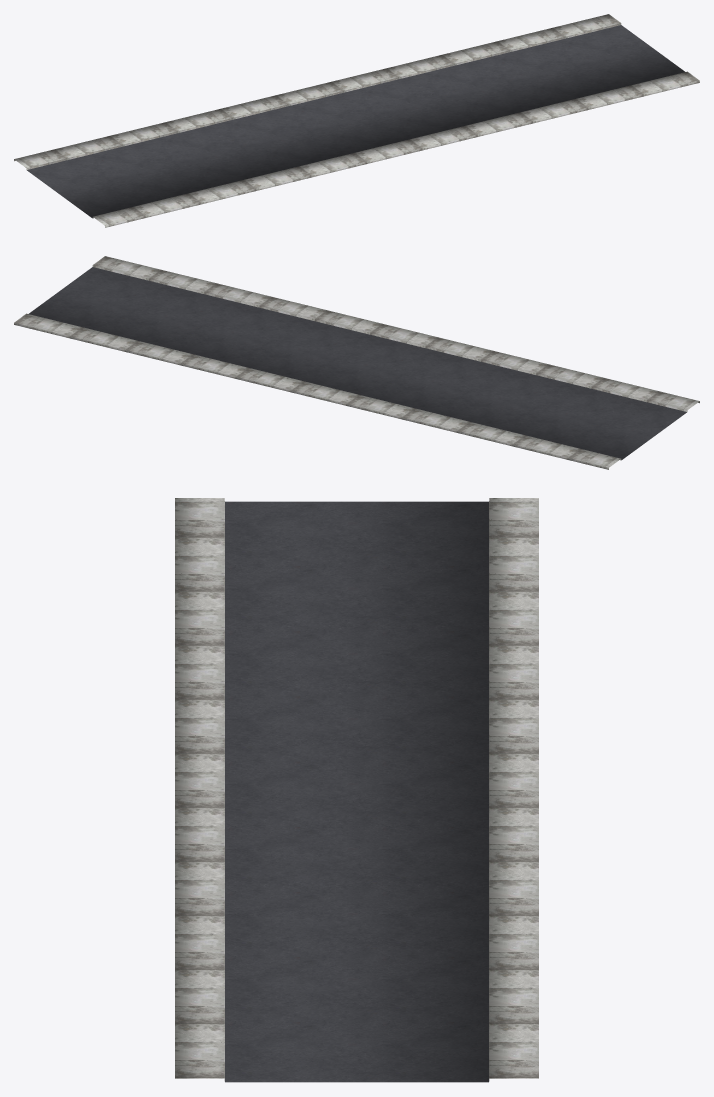
Rendered from strada_dritta_grande_bianca.glb.
The picture shows the model from 3 angles, top to bottom: view 1: azimuth 30°, elevation 25°; view 2: azimuth 150°, elevation 25°; view 3: azimuth 270°, elevation 25°; orthographic projection. The views are drawn at different scales.
Visible parts, largest first — view 1: road.019; view 2: road.019; view 3: road.019.
Boxes of the visible parts, <box> form: road.019: <box>14,14,699,227</box>; road.019: <box>14,256,699,469</box>; road.019: <box>175,498,538,1082</box>.
Size of the model in its own units: 21.01 by 0.0716 by 5.57.
Materials: 2 (2 with a texture image).
